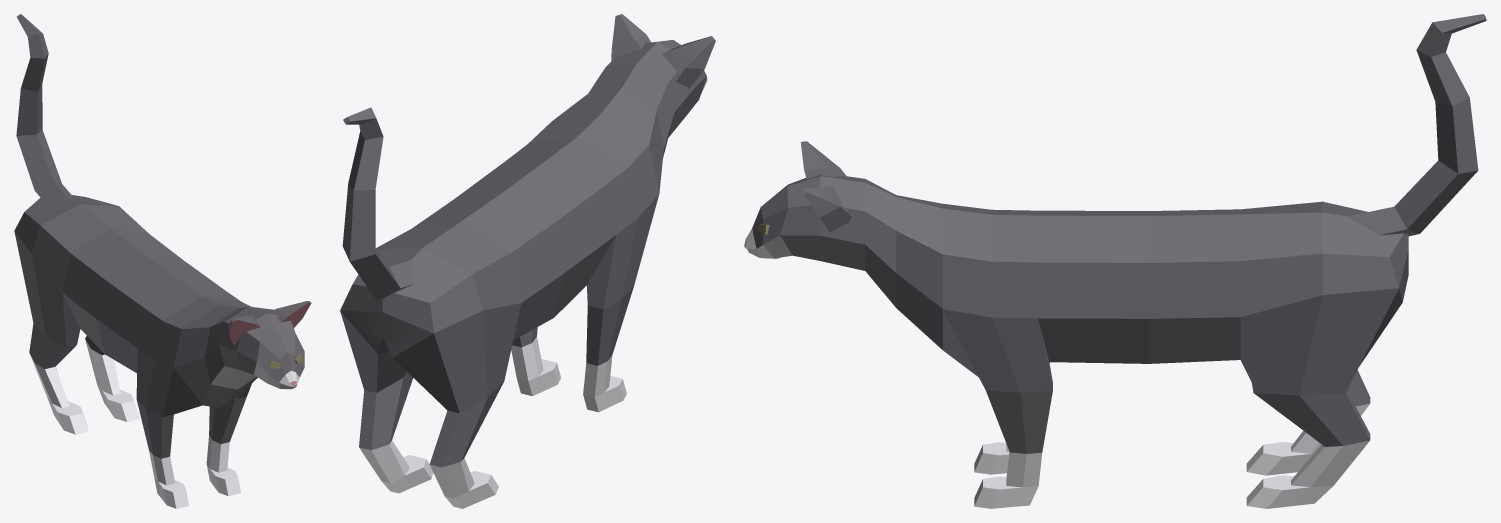
Rendered from gato.glb.
3 renders of one model, left to right at view 1: azimuth 30°, elevation 25°; view 2: azimuth 150°, elevation 25°; view 3: azimuth 270°, elevation 25°, orthographic. The views are drawn at different scales.
Parts seen in each view (by area): view 1: Geo_Cat; view 2: Geo_Cat; view 3: Geo_Cat.
Part boxes in pixels (x1=…): Geo_Cat: x1=14, y1=14, x2=311, y2=508; Geo_Cat: x1=340, y1=14, x2=715, y2=508; Geo_Cat: x1=744, y1=14, x2=1486, y2=508.
Bounding box in the file's own units: 0.1 × 0.35 × 0.5.
Materials: 1 (1 with a texture image).
